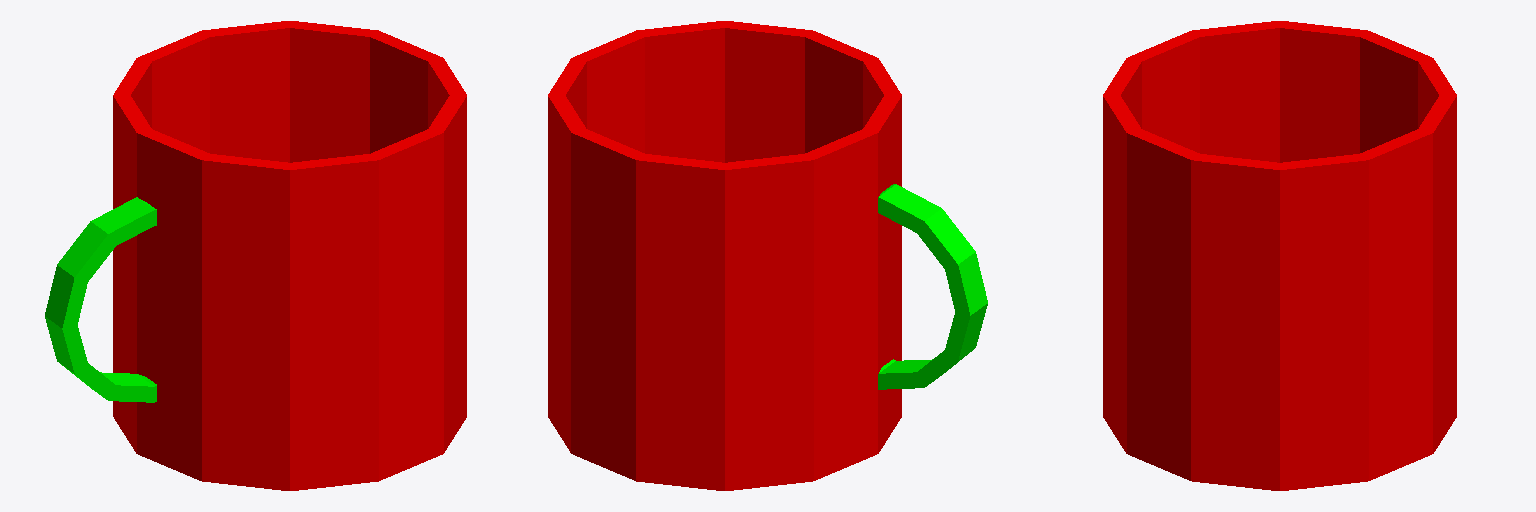
URDF robot description (cup_with_totte):
<?xml version="1.0"?>
<robot name="cup_with_totte"
       xmlns:xi="http://www.w3.org/2001/XInclude">
  <gazebo>
    <static>false</static>
  </gazebo>
  <link name="nil_link">
    <visual>
      <origin xyz="0 0 0" rpy="0 -0 0"/>
      <geometry>
        <mesh filename="model://cup_with_totte/meshes/nil_link_mesh.dae" scale="1 1 1" />
      </geometry>
    </visual>
    <collision>
      <origin xyz="0 0 0" rpy="0 -0 0"/>
      <geometry>
        <mesh filename="model://cup_with_totte/meshes/nil_link_mesh.dae" scale="1 1 1" />
      </geometry>
    </collision>
    <inertial>
      <mass value="0.001" />
      <origin xyz="0 0 0" rpy="0 -0 0"/>
      <inertia ixx="1e-03" ixy="0" ixz="0" iyy="1e-03" iyz="0" izz="1e-03"/>
    </inertial>
  </link>
  <gazebo reference="nil_link">
    <mu1>0.9</mu1>
    <mu2>0.9</mu2>
  </gazebo>
</robot>

--- Render facts (derived) ---
Views: 3 orthographic renders of the robot side by side, from view 1: azimuth 30°, elevation 25°; view 2: azimuth 150°, elevation 25°; view 3: azimuth 270°, elevation 25°.
Robot: cup_with_totte — 1 links, 0 joints (none); root link nil_link; default pose: all joints at 0.
Links seen in each view (by area): view 1: nil_link; view 2: nil_link; view 3: nil_link.
Boxes of the visible links, x1,y1,x2,y2 form: nil_link: [45, 21, 466, 490]; nil_link: [548, 21, 987, 490]; nil_link: [1103, 21, 1456, 490].
Size in the robot's own frame: 0.13 by 0.1 by 0.1 metres.
1 mesh visuals loaded from 1 distinct referenced files (1 Collada DAE).
